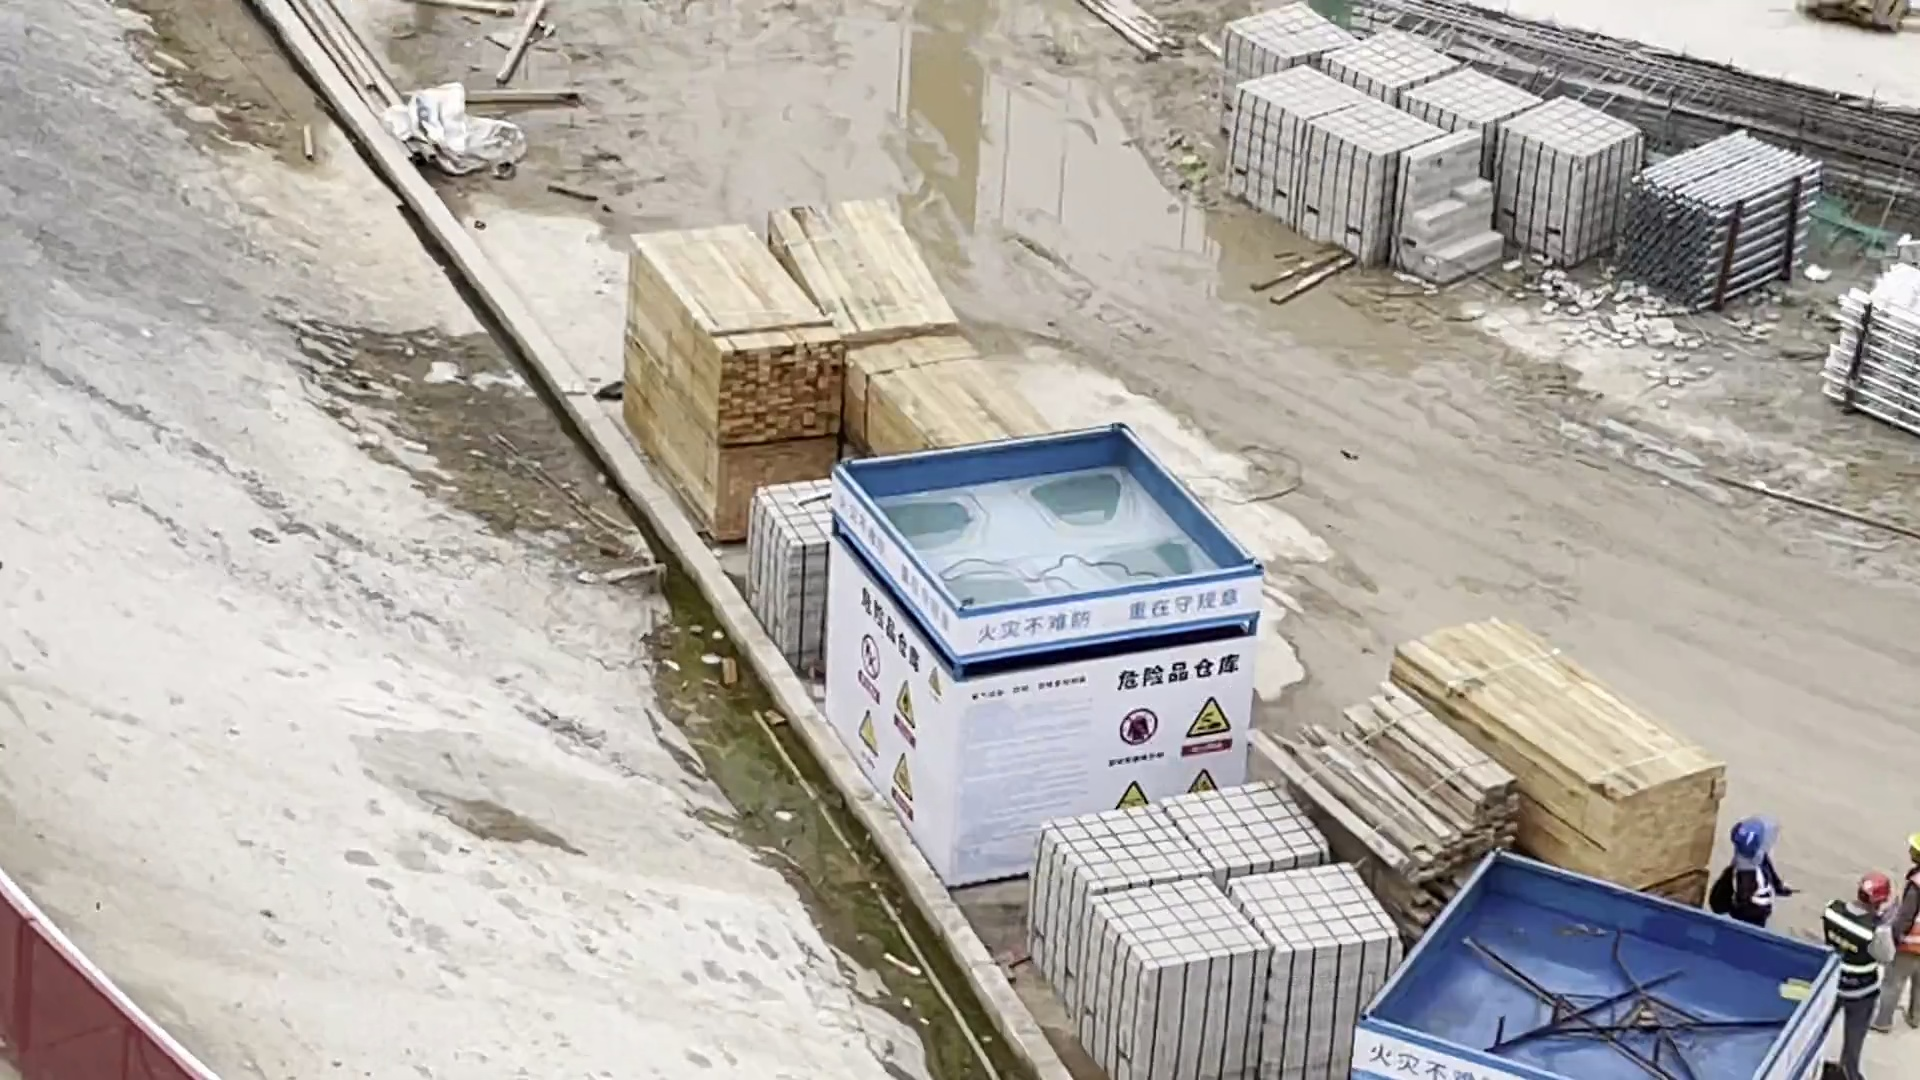brick: (1223, 4, 1645, 305), (1014, 770, 1423, 1080), (729, 465, 856, 691)
fence: (1, 862, 244, 1080)
helmet: (1727, 811, 1778, 877), (1854, 862, 1894, 914), (1901, 829, 1920, 856)
person: (1815, 858, 1898, 1080), (1709, 800, 1794, 938), (1871, 815, 1920, 1037)
scaffold: (1618, 123, 1819, 315), (1819, 253, 1920, 434)
slogan: (944, 554, 1271, 909), (814, 462, 958, 895), (1341, 1009, 1534, 1080)
vest: (1815, 892, 1888, 1009), (1881, 859, 1920, 986), (1719, 864, 1794, 930)
wood: (1292, 591, 1742, 953), (606, 169, 1053, 484)
